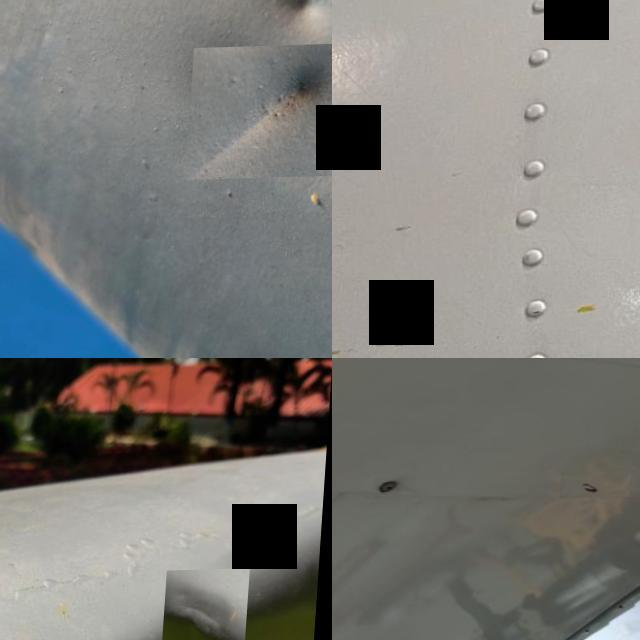Crack: (338, 467, 418, 518), (564, 474, 636, 502)
Dent: (191, 45, 332, 181), (165, 571, 253, 640), (266, 0, 332, 38)
